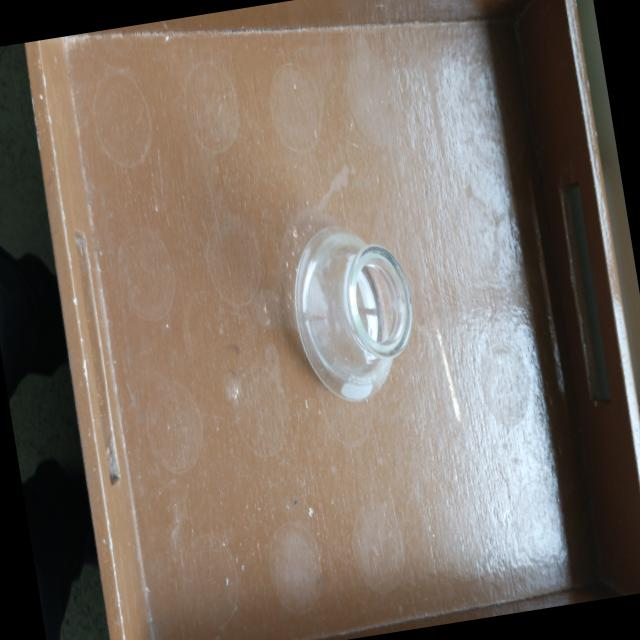erlenmeyer_flask: (272, 205, 433, 421)
